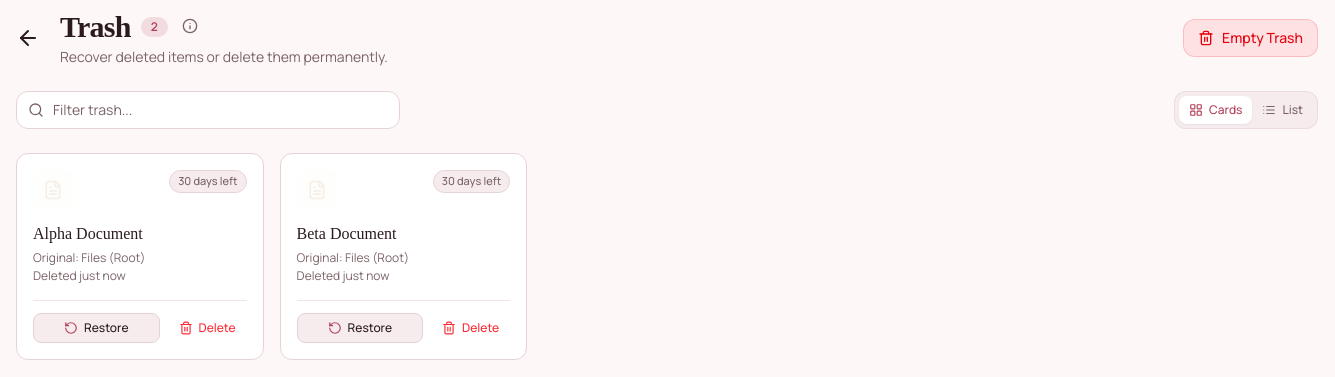
Test: TrashView.vue › filters items when searchQuery is typed
Type "Alpha" into the field with placeholder "Filter trash..." at coordinates (208, 110), box [16,91,400,129]
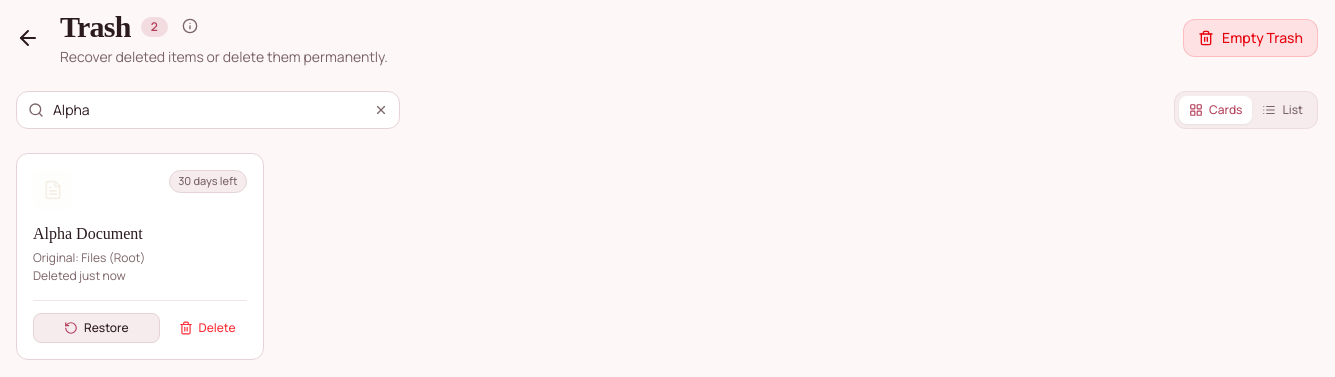
expect the text "Alpha Document" is shown: met, box [33,225,143,242]
expect the text "Beta Document" is gone: met
